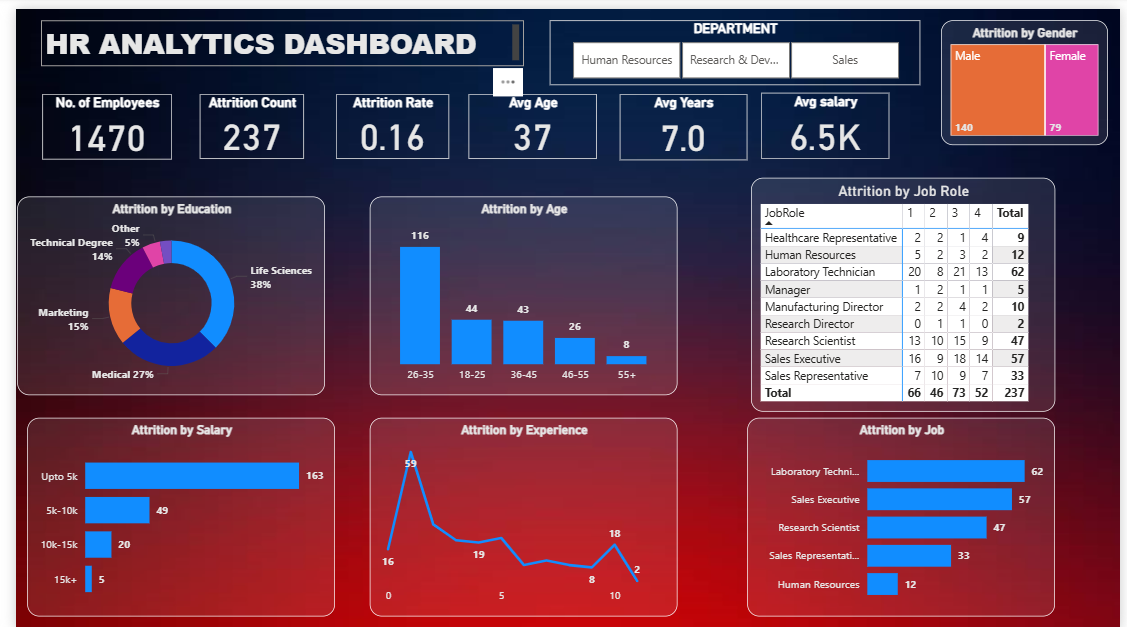

The dashboard page shown, as its layout file describes it:
{"tool":"powerbi","page":{"name":"Page 1","canvas":[1280,720],"ordinal":0},"visuals":[{"type":"card","title":"No. of Employees","fields":{"Values":["CountNonNull(HR_Analytics.EmpID)"]},"box":[30,98.6,150,75.7],"z":0},{"type":"card","title":"Attrition Count","fields":{"Values":["Sum(HR_Analytics.Attrition count)"]},"box":[212.5,98.9,121,75.3],"z":1000},{"type":"card","title":"Attrition Rate","fields":{"Values":["HR_Analytics.Attrition Measure"]},"box":[370.5,98.9,131.4,75.3],"z":2000},{"type":"card","title":"Avg Age","fields":{"Values":["Avg(HR_Analytics.Age)"]},"box":[524,98.9,149.1,75.3],"z":3000},{"type":"card","title":"Avg Years","fields":{"Values":["Avg(HR_Analytics.YearsAtCompany)"]},"box":[699.6,98.9,147.6,76.8],"z":4000},{"type":"card","title":"Avg salary","fields":{"Values":["Avg(HR_Analytics.MonthlyIncome)"]},"box":[863.5,97.4,149.1,76.8],"z":5000},{"type":"donutChart","title":"Attrition by Education","fields":{"Category":["HR_Analytics.EducationField"],"Y":["Sum(HR_Analytics.Attrition count)"]},"box":[1.5,217,357.2,230.3],"z":6000},{"type":"columnChart","title":"Attrition by Age","fields":{"Category":["HR_Analytics.AgeGroup"],"Y":["Sum(HR_Analytics.Attrition count)"]},"box":[410.3,217,357.2,230.3],"z":7000},{"type":"pivotTable","title":"Attrition by Job Role","fields":{"Rows":["HR_Analytics.JobRole"],"Columns":["HR_Analytics.JobSatisfaction"],"Values":["Sum(HR_Analytics.Attrition count)"]},"box":[851.7,196.3,352.8,271.6],"z":8000},{"type":"barChart","title":"Attrition by Salary","fields":{"Category":["HR_Analytics.SalarySlab"],"Y":["Sum(HR_Analytics.Attrition count)"]},"box":[13.3,473.8,357.2,230.3],"z":9000},{"type":"barChart","title":"Attrition by Job","fields":{"Y":["Sum(HR_Analytics.Attrition count)"],"Category":["HR_Analytics.JobRole"]},"box":[847.2,473.8,357.2,230.3],"z":10000},{"type":"lineChart","title":"Attrition by Experience","fields":{"Category":["HR_Analytics.YearsAtCompany"],"Y":["Sum(HR_Analytics.Attrition count)"]},"box":[410.3,473.8,357.2,230.3],"z":11000},{"type":"treemap","title":"Attrition by Gender","fields":{"Group":["HR_Analytics.Gender"],"Values":["Sum(HR_Analytics.Attrition count)"]},"box":[1073.1,13.3,193.4,144.6],"z":12000},{"type":"slicer","title":"DEPARTMENT","fields":{"Values":["HR_Analytics.Department"]},"box":[618.5,13.3,429.5,75.3],"z":13000},{"type":"textbox","box":[29.5,13.3,559.4,53.1],"z":14000}]}

Visuals, with their boxes in screenshot pixels (x1, y1, x2, y2), scaled from the page's 1280x720 canvas onto the 1127x627 screenshot:
"No. of Employees" card: crop(26, 86, 158, 152)
"Attrition Count" card: crop(187, 86, 294, 152)
"Attrition Rate" card: crop(326, 86, 442, 152)
"Avg Age" card: crop(461, 86, 593, 152)
"Avg Years" card: crop(616, 86, 746, 153)
"Avg salary" card: crop(760, 85, 892, 152)
"Attrition by Education" donutChart: crop(1, 189, 316, 390)
"Attrition by Age" columnChart: crop(361, 189, 676, 390)
"Attrition by Job Role" pivotTable: crop(750, 171, 1061, 407)
"Attrition by Salary" barChart: crop(12, 413, 326, 613)
"Attrition by Job" barChart: crop(746, 413, 1060, 613)
"Attrition by Experience" lineChart: crop(361, 413, 676, 613)
"Attrition by Gender" treemap: crop(945, 12, 1115, 138)
"DEPARTMENT" slicer: crop(545, 12, 923, 77)
textbox: crop(26, 12, 519, 58)
